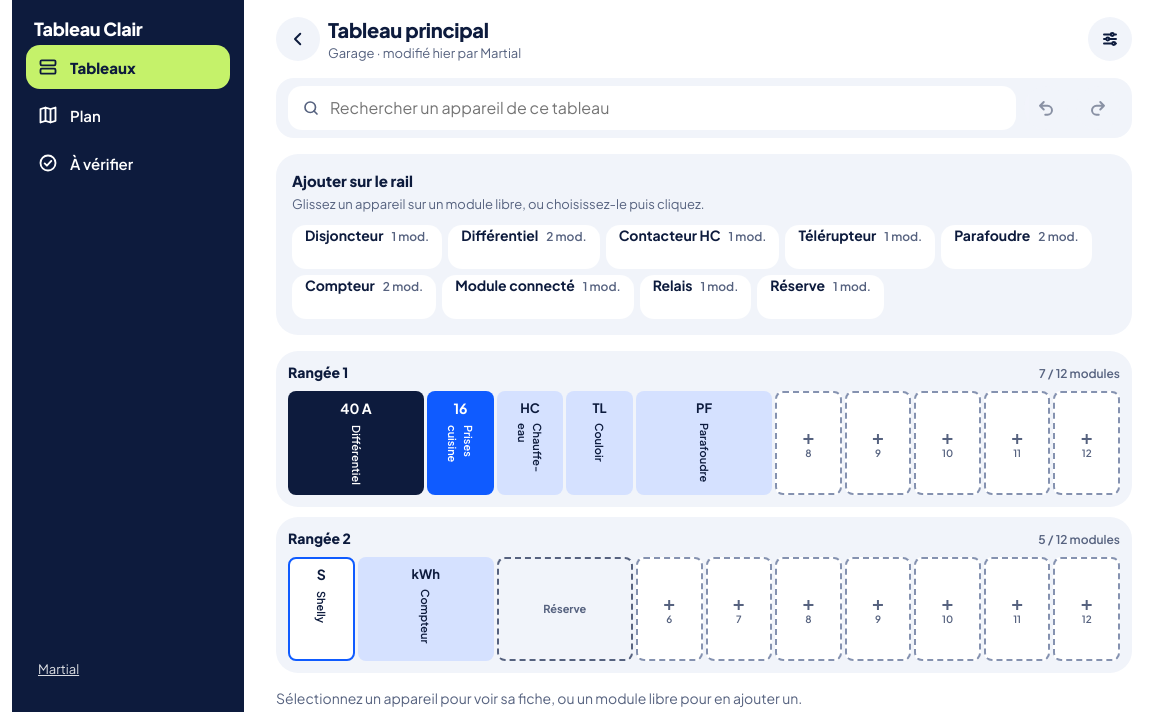
Test case: éditeur de rail — sélection › n’affiche pas de circuit pour un appareil qui n’est pas un disjoncteur
The width and height of the screenshot is (1164, 712).
Click the button "HC Chauffe-eau" at (530, 443), box 497,391 -> 563,495
(page scrolled)
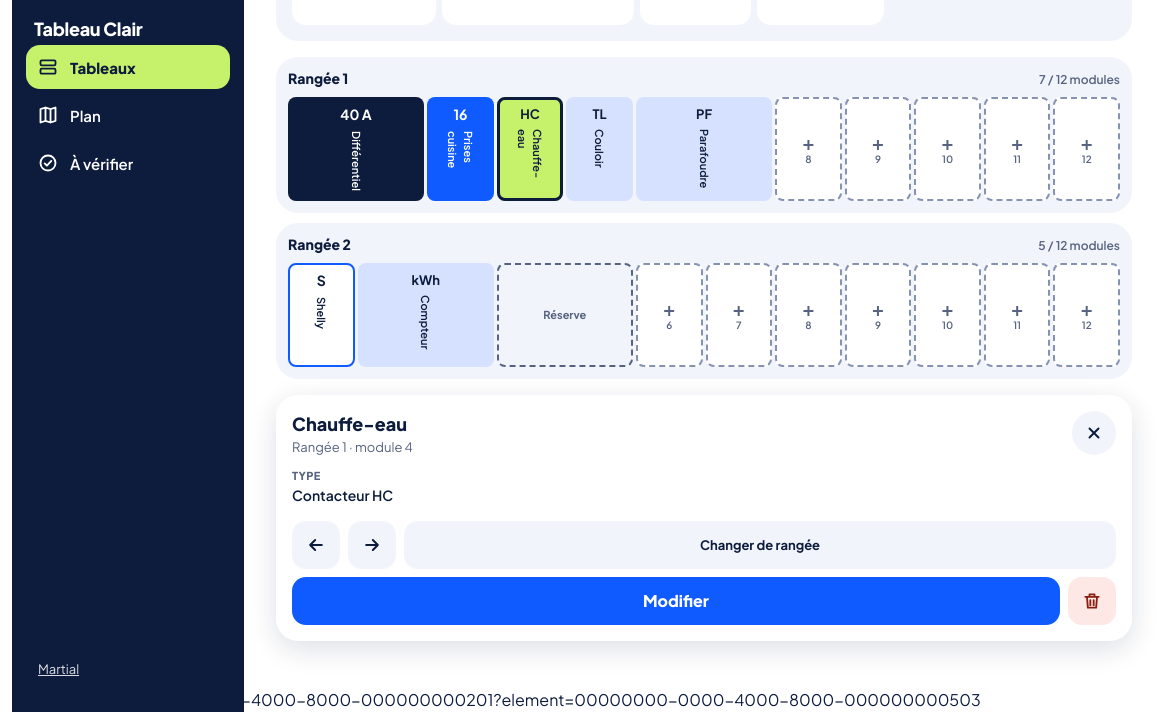
Check: the element "Chauffe-eau" is shown, box 276,395 -> 1132,641
